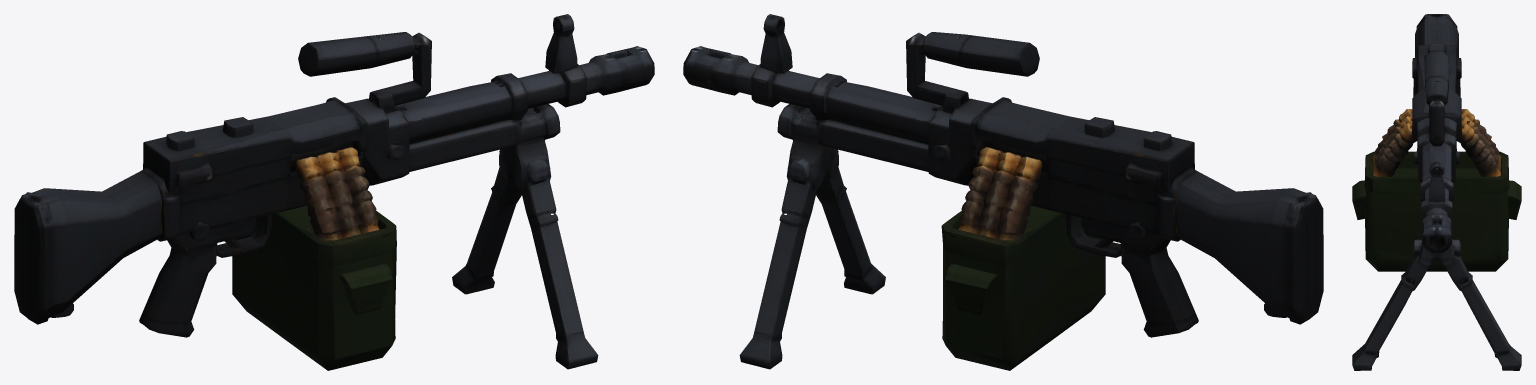
Rendered from belt_fed_light_machine_gun_low.glb.
The picture shows the model from 3 angles, left to right: view 1: azimuth 30°, elevation 25°; view 2: azimuth 150°, elevation 25°; view 3: azimuth 270°, elevation 25°; orthographic projection. The views are drawn at different scales.
Visible parts, largest first — view 1: world; view 2: world; view 3: world.
Part boxes in pixels (x1,y1,x2,y2): world: (14,14,654,370); world: (683,14,1323,370); world: (1352,14,1521,370).
Bounding box in the file's own units: 1 × 0.5093 × 0.3272.
Materials: 1 (1 with a texture image).
